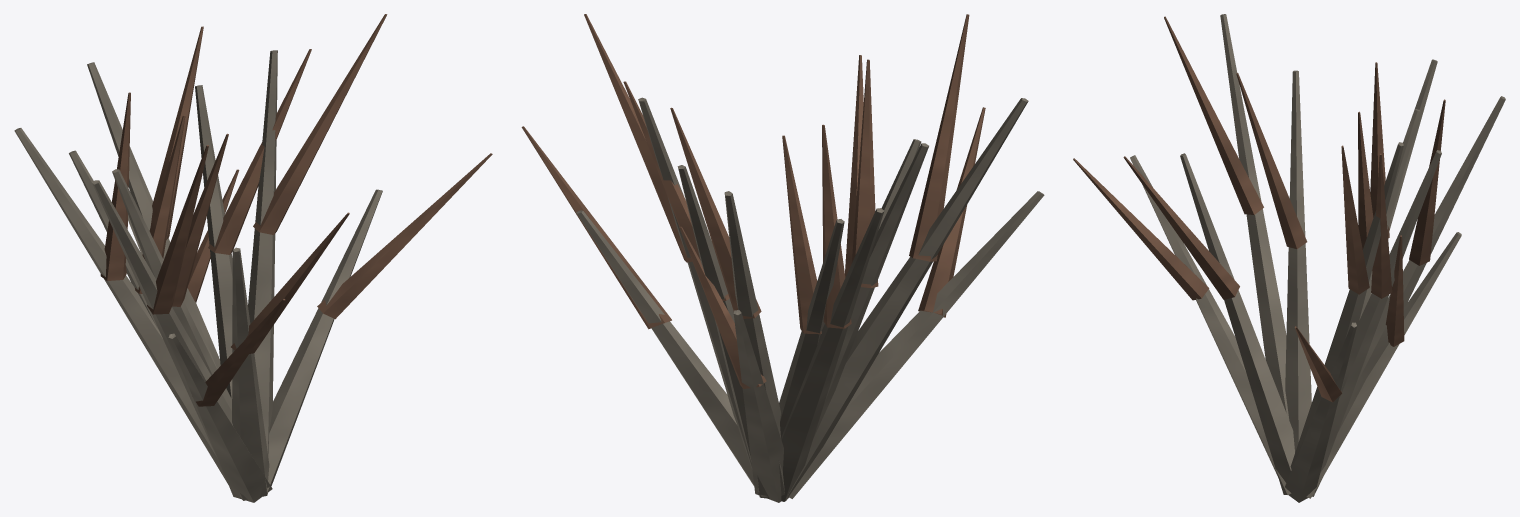
Rendered from bush_dry_03.fbx.
3 renders of one model, left to right at view 1: azimuth 30°, elevation 25°; view 2: azimuth 150°, elevation 25°; view 3: azimuth 270°, elevation 25°, orthographic. The views are drawn at different scales.
Parts seen in each view (by area): view 1: bush_dry_03; view 2: bush_dry_03; view 3: bush_dry_03.
Boxes of the visible parts, box(x1,y1,x2,y2) form: bush_dry_03: box(14, 14, 492, 502); bush_dry_03: box(521, 14, 1044, 502); bush_dry_03: box(1073, 14, 1505, 502).
Size of the model in its own units: 149 by 140 by 129.
Materials: 1 (1 with a texture image).
